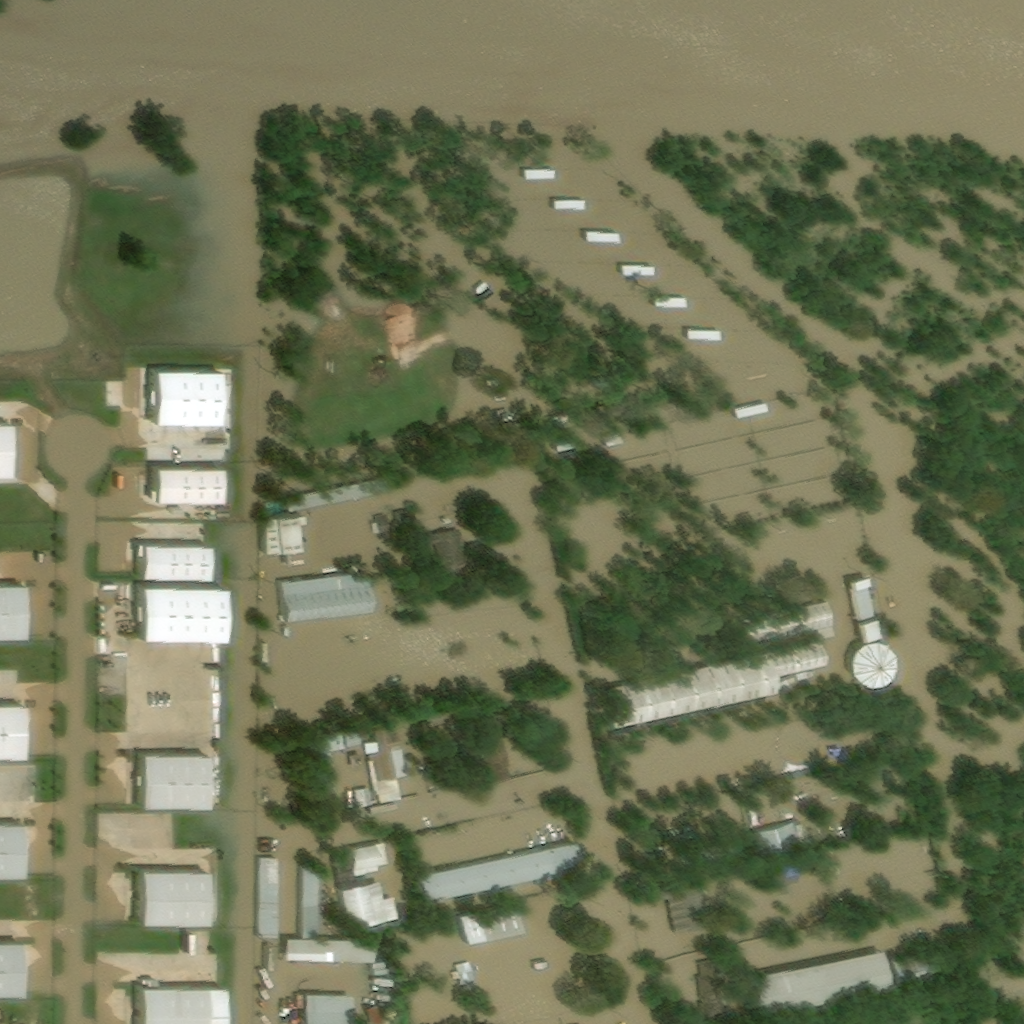major_damage: (603, 640, 826, 729), (751, 949, 887, 1019), (419, 845, 565, 907), (286, 868, 373, 963), (280, 575, 372, 625), (740, 602, 831, 645), (288, 479, 391, 514), (367, 726, 408, 807), (658, 880, 710, 939), (340, 884, 400, 932), (459, 904, 521, 950), (473, 716, 511, 784), (891, 949, 953, 990), (848, 639, 894, 686), (750, 823, 801, 859), (263, 515, 303, 559), (259, 859, 278, 944), (427, 529, 462, 574), (306, 740, 334, 796), (298, 995, 352, 1023), (759, 860, 797, 897), (351, 845, 387, 879), (678, 844, 732, 866), (593, 397, 640, 422), (849, 586, 874, 620), (734, 403, 766, 419), (857, 618, 879, 639), (345, 728, 363, 752), (327, 736, 347, 756), (454, 965, 474, 985), (356, 790, 374, 810), (556, 204, 589, 214), (687, 330, 719, 340), (589, 235, 621, 245), (523, 171, 555, 181), (622, 267, 654, 277), (313, 806, 337, 819), (367, 1007, 386, 1023), (654, 298, 687, 307), (435, 856, 456, 868), (552, 442, 572, 454), (849, 576, 868, 588), (818, 628, 834, 641), (604, 435, 620, 448), (549, 418, 570, 427), (351, 756, 364, 770), (534, 962, 548, 974), (383, 1012, 397, 1023), (374, 965, 386, 973)
minor_damage: (141, 587, 223, 642), (145, 368, 217, 428), (140, 869, 206, 925), (139, 752, 203, 808), (138, 986, 222, 1023), (140, 544, 206, 582), (154, 467, 219, 498), (0, 586, 25, 640), (0, 705, 24, 758), (0, 824, 22, 879), (0, 942, 21, 996), (0, 422, 11, 476)
